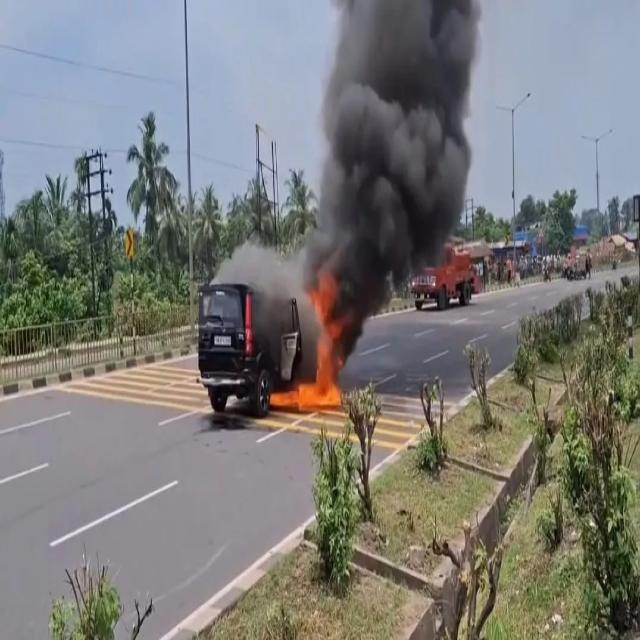fire: (313, 273, 343, 381), (271, 381, 341, 408)
